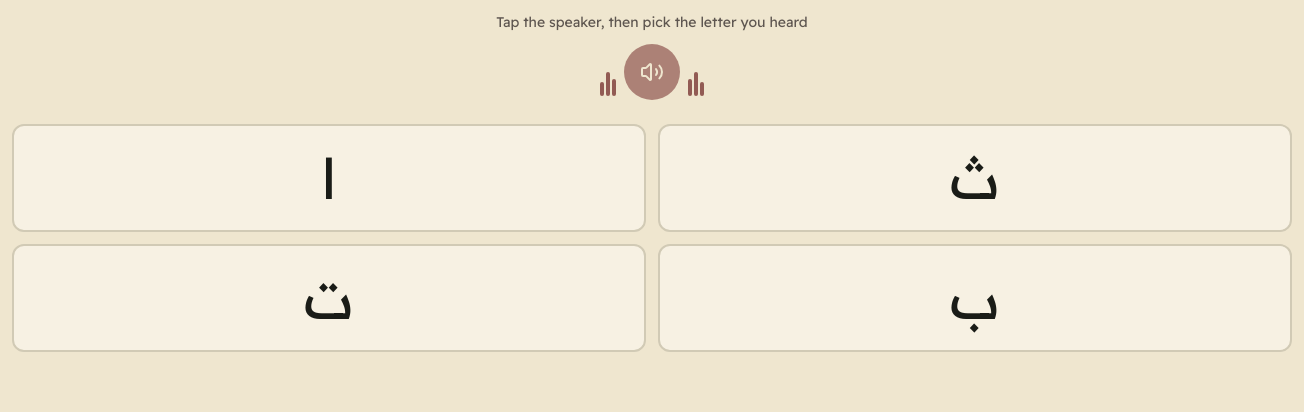
Test case: answering › names the letter it actually was after a wrong answer
Click the button "ا".
click(329, 178)  # box [12, 124, 646, 232]
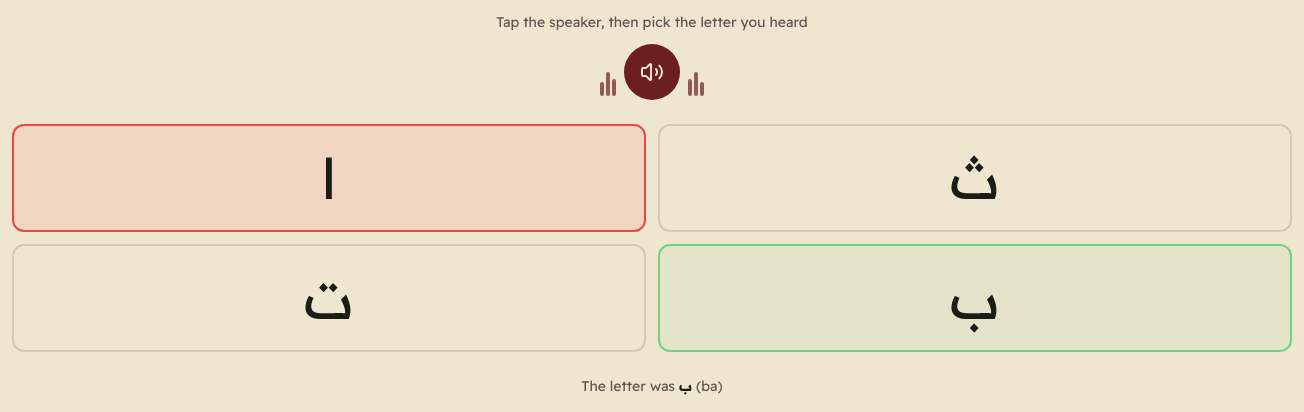
Expected: the text "The letter was ب (ba)" is shown, [581, 377, 723, 395]
